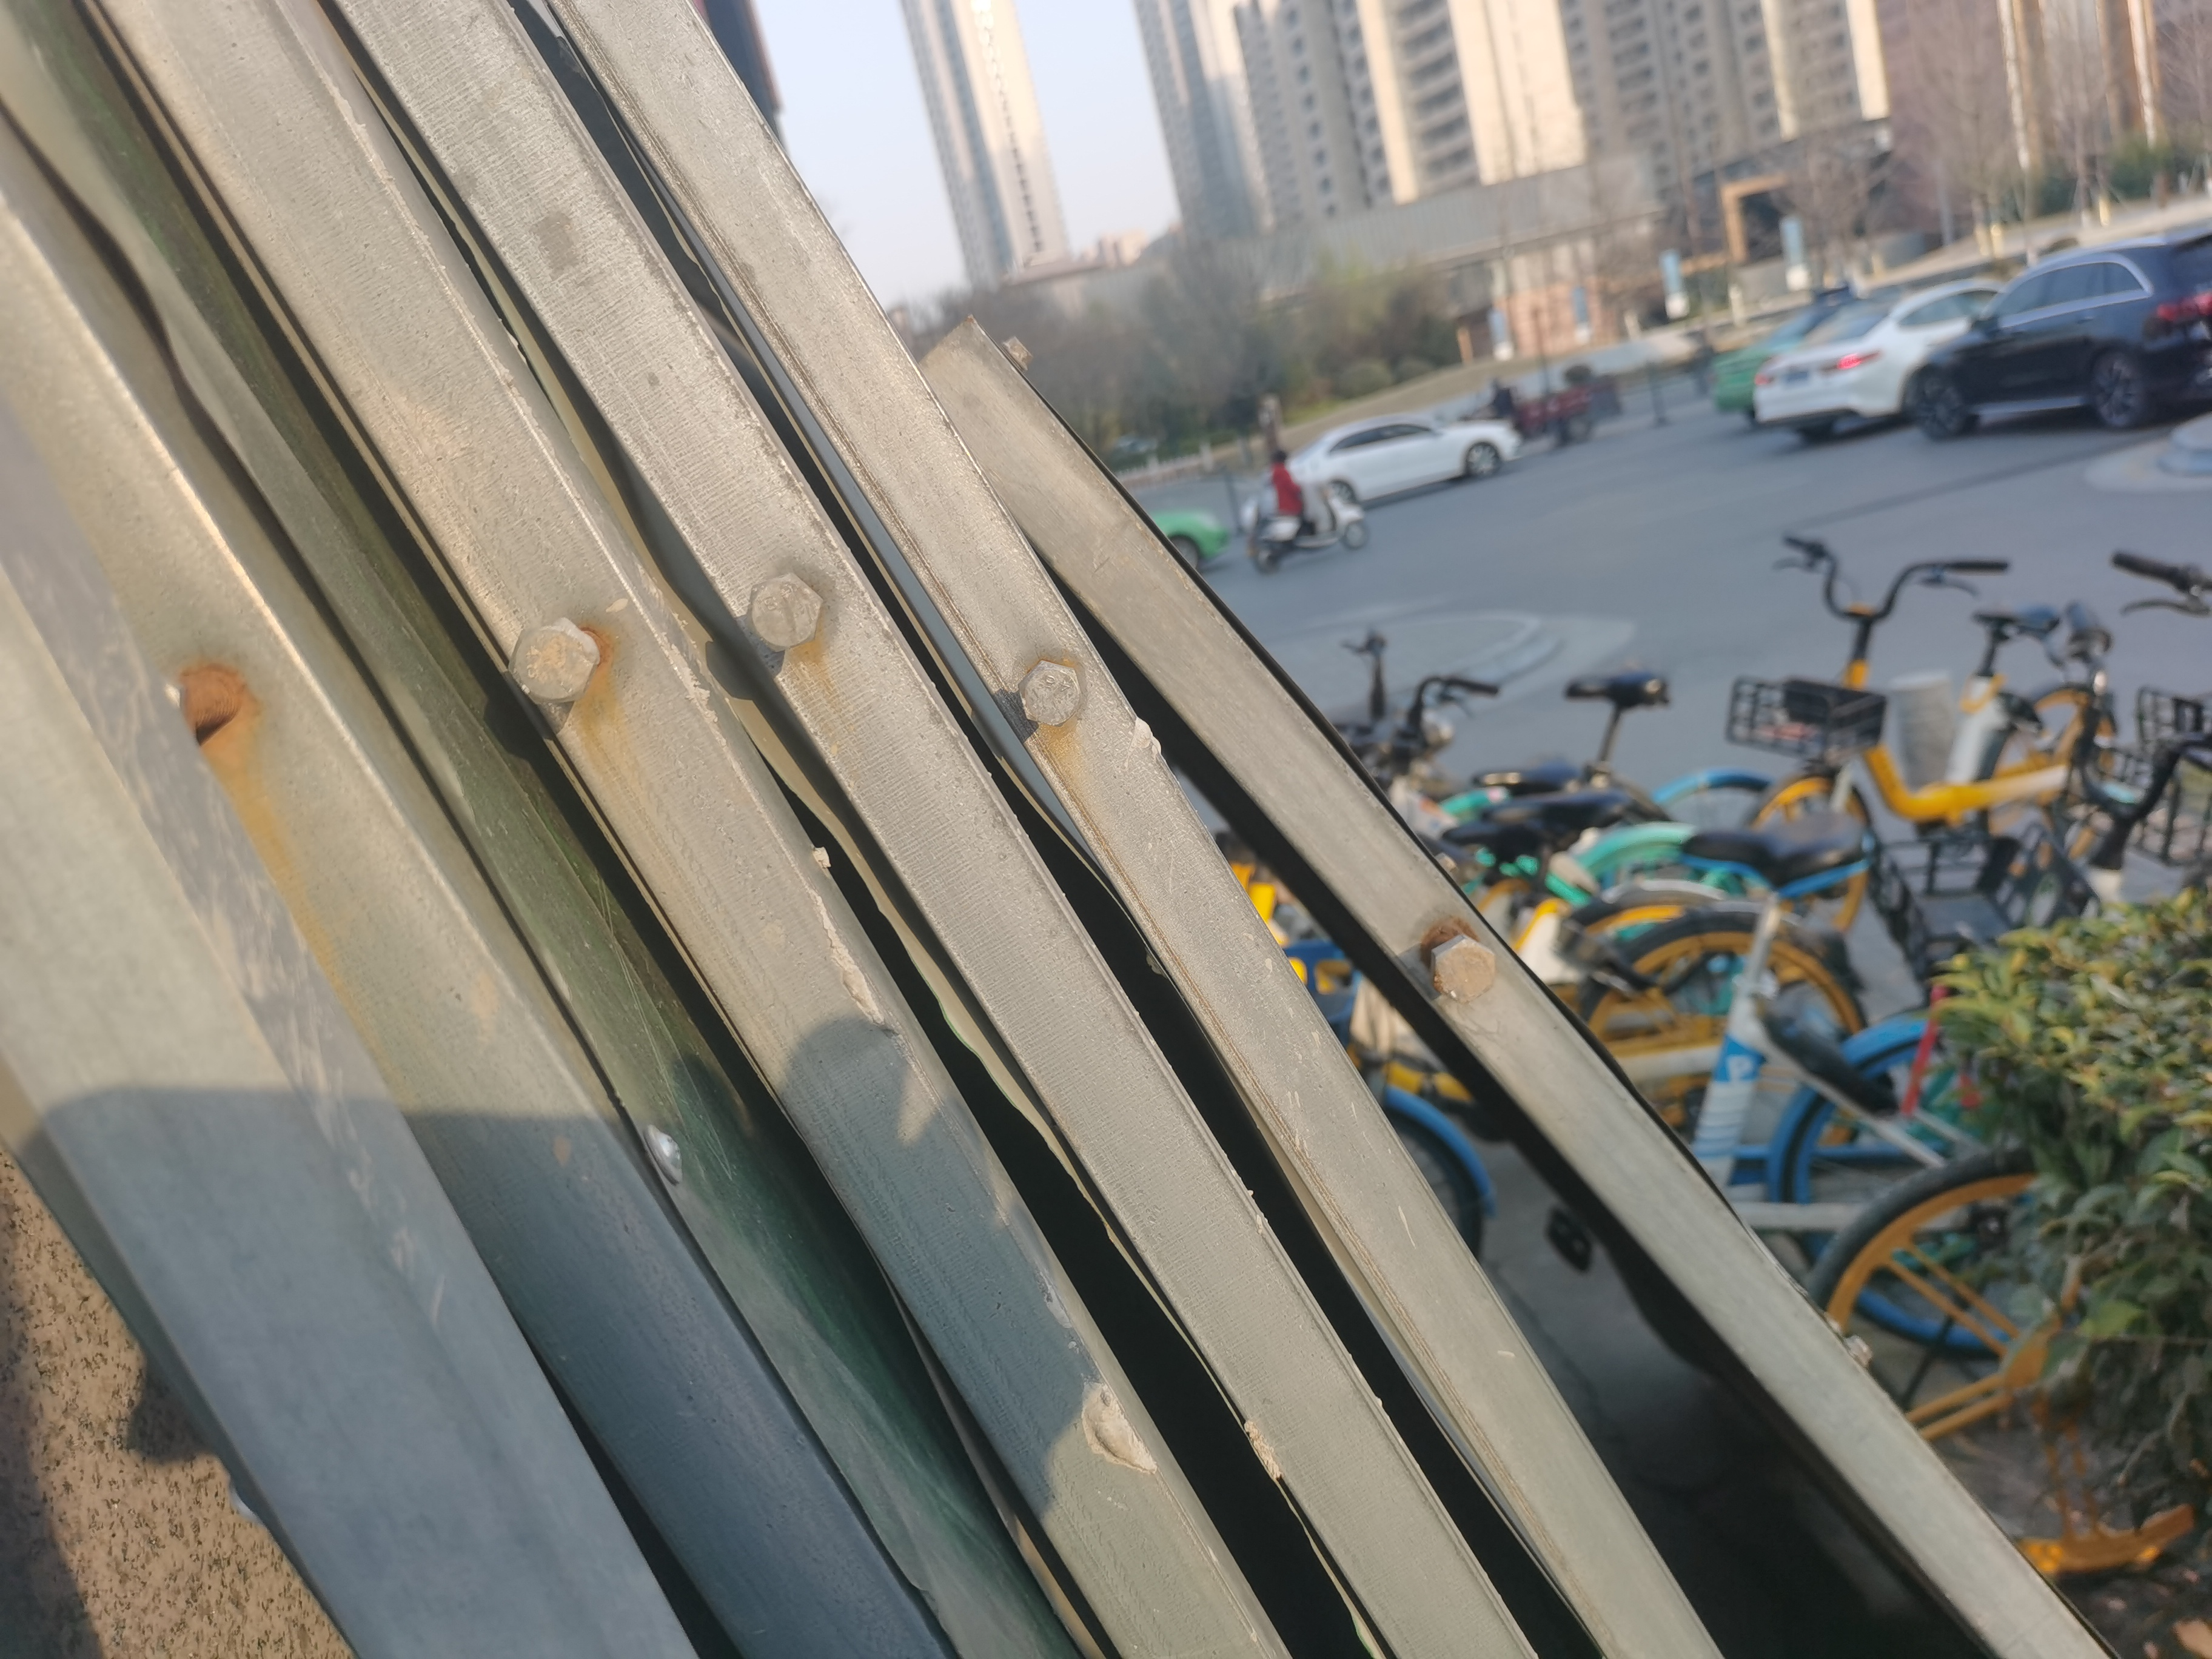bolt_a: (503, 613, 601, 709), (740, 568, 827, 655), (1426, 929, 1501, 1007), (1014, 655, 1089, 730)
